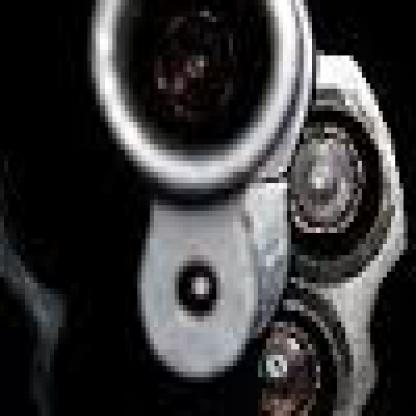gun: (37, 0, 412, 411)
